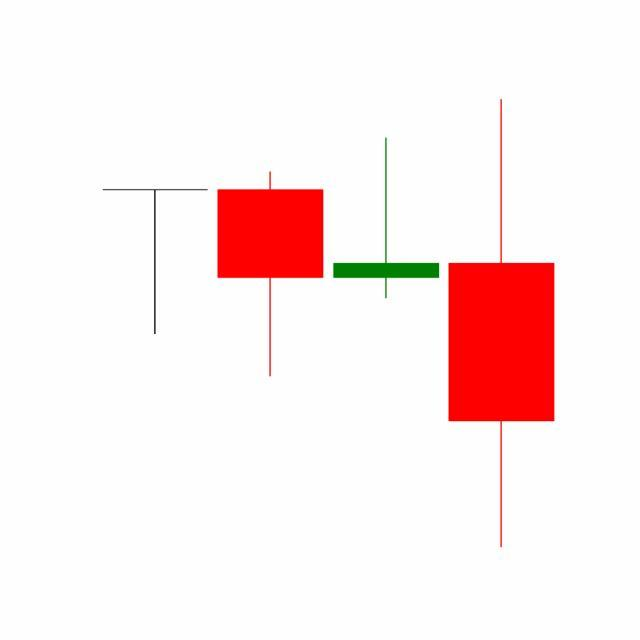Spinning Top: (329, 136, 445, 301)
